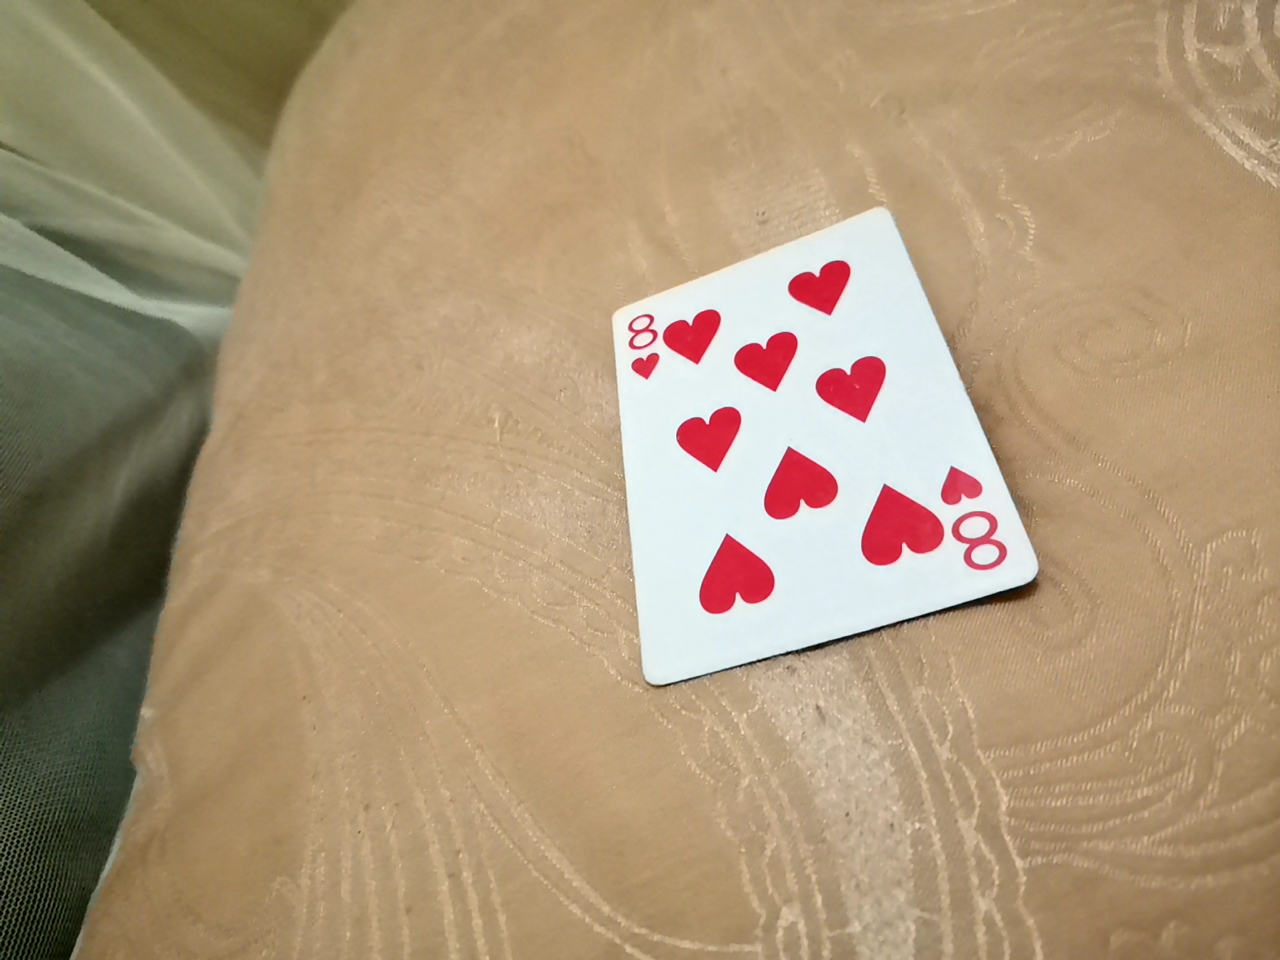hx 8: (602, 191, 1024, 687)
